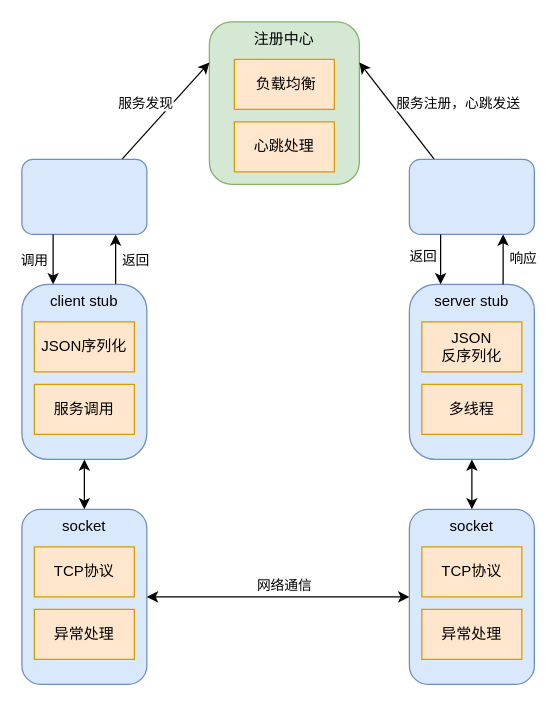
This 558x706 diagram has some shape labels left out. Each missing label, with the centre of its shape:
"client" goes at [84,196].
"server" goes at [471,196].
